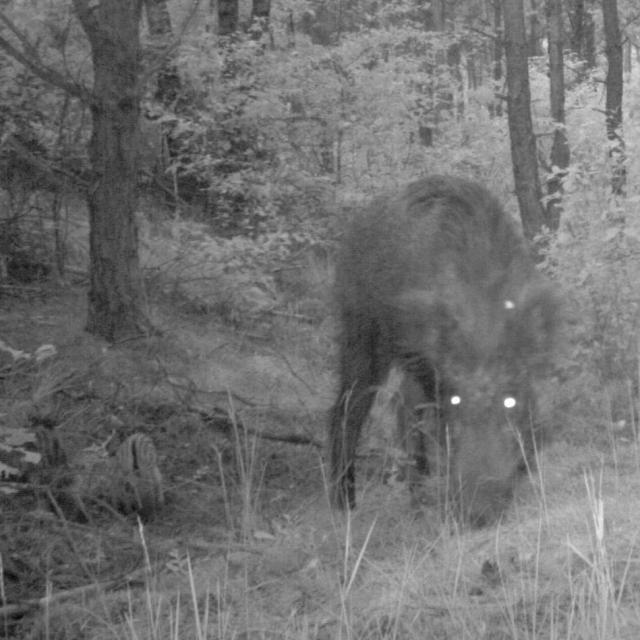pig: (304, 120, 567, 558)
